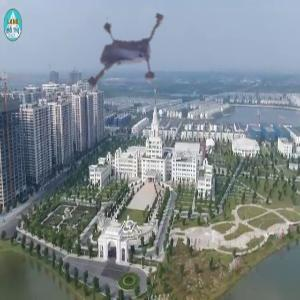drone: (65, 11, 178, 124)
